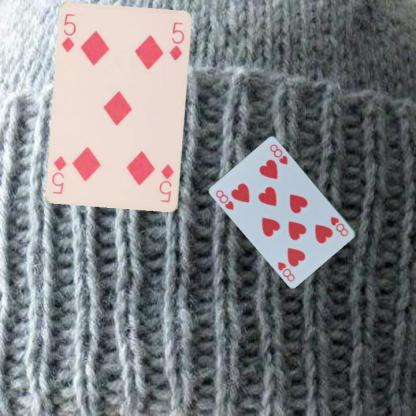5d: (157, 162, 176, 204), (59, 12, 77, 53)
8h: (213, 187, 235, 212), (328, 214, 350, 237)
